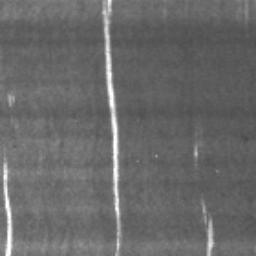Bright scratch: (103, 0, 121, 253), (3, 161, 14, 256), (204, 203, 215, 250), (194, 148, 199, 158)
